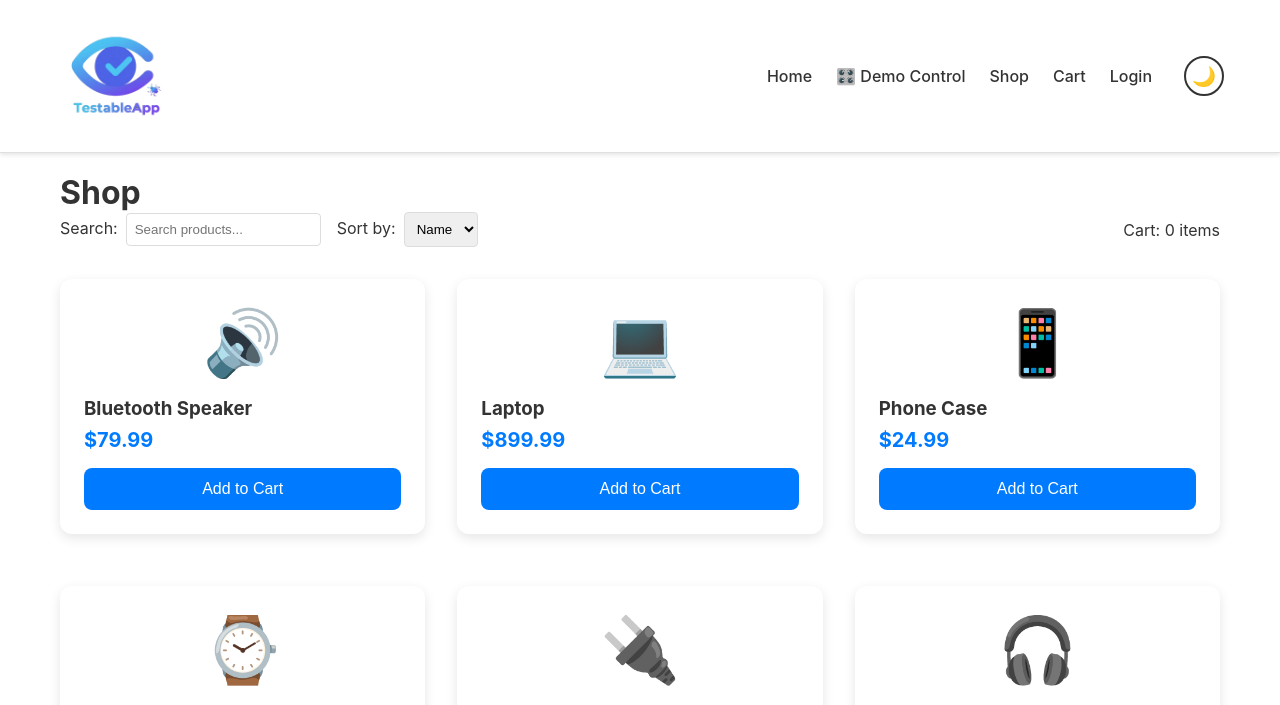
it: Shopping Flow › Shop Page › should show no products message when search has no results
Type "nonexistent" into the field with test id "search-input" at point(224, 230), box x1=126 y1=213 x2=321 y2=246
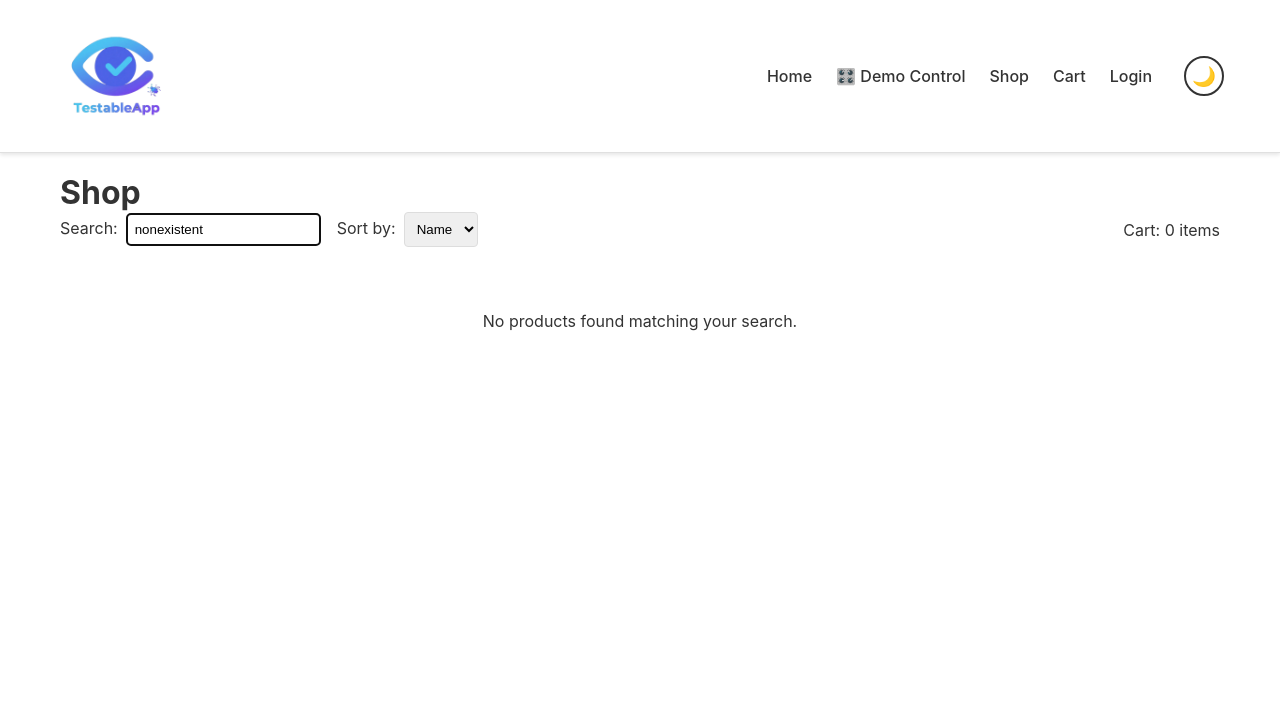
Result: the text with test id "no-products" shows "No products found matching your search" at x1=483 y1=311 x2=797 y2=331
